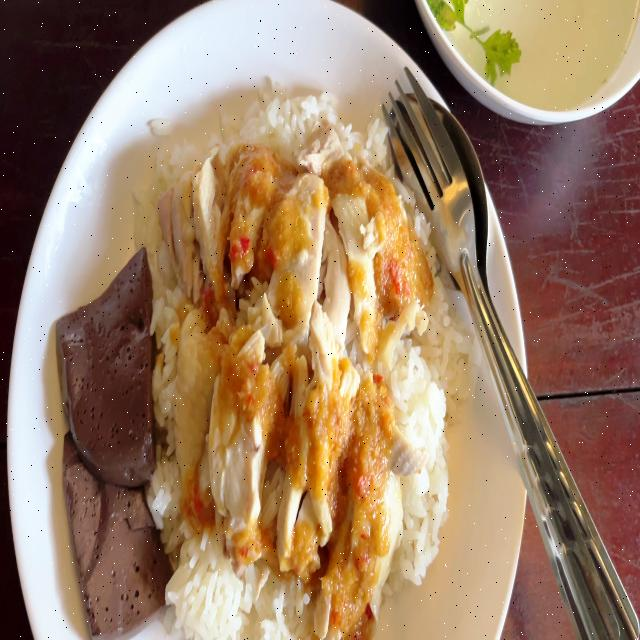boiled_chicken: (149, 148, 412, 555)
boiled_chicken_blood_jelly: (55, 253, 161, 487), (65, 424, 163, 612)
chicken_rice: (44, 84, 462, 640)
